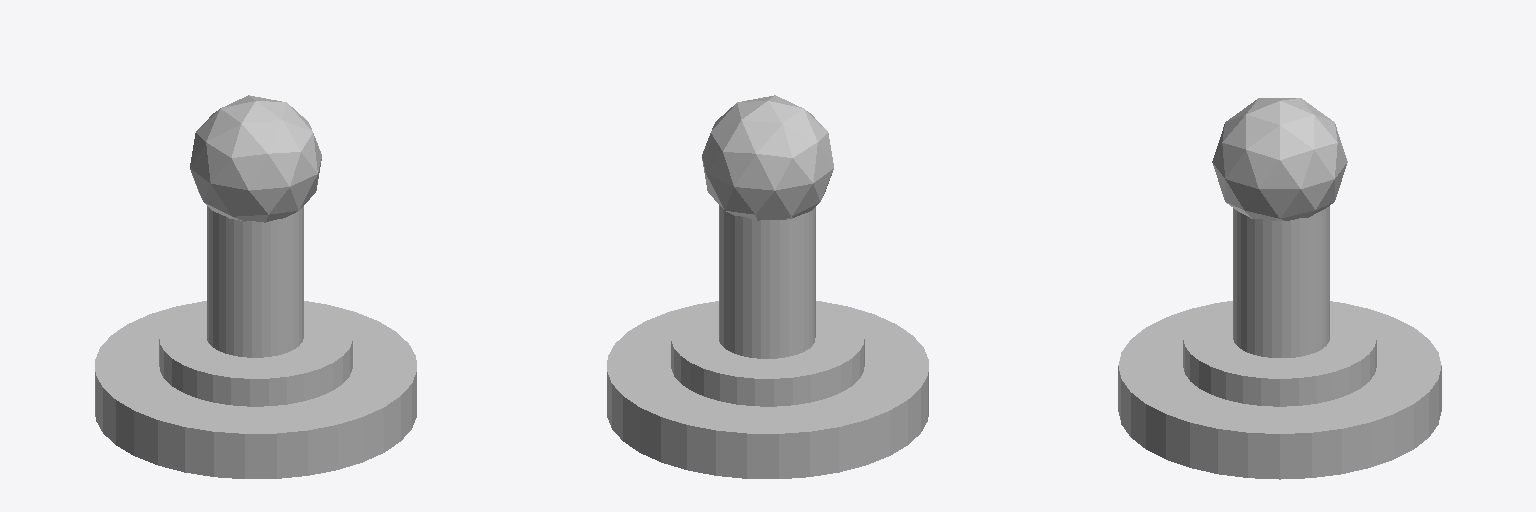
The model's file is Pawn.obj.
3 views of the same model, side by side, from view 1: azimuth 30°, elevation 25°; view 2: azimuth 150°, elevation 25°; view 3: azimuth 270°, elevation 25° (orthographic).
Visible parts, largest first — view 1: Circle, Cylinder.001, Icosphere, Cylinder; view 2: Circle, Cylinder.001, Icosphere, Cylinder; view 3: Circle, Cylinder.001, Icosphere, Cylinder.
Part boxes in pixels (x1,y1,x2,y2): Circle: (95,301,416,478); Cylinder.001: (207,206,303,357); Icosphere: (190,95,321,222); Cylinder: (159,303,352,406); Circle: (607,301,928,478); Cylinder.001: (719,205,815,358); Icosphere: (702,95,833,220); Cylinder: (671,302,864,406); Circle: (1118,301,1441,479); Cylinder.001: (1233,206,1329,357); Icosphere: (1212,98,1347,221); Cylinder: (1183,302,1376,406).
Size of the model in its own units: 2 by 2.12 by 2.